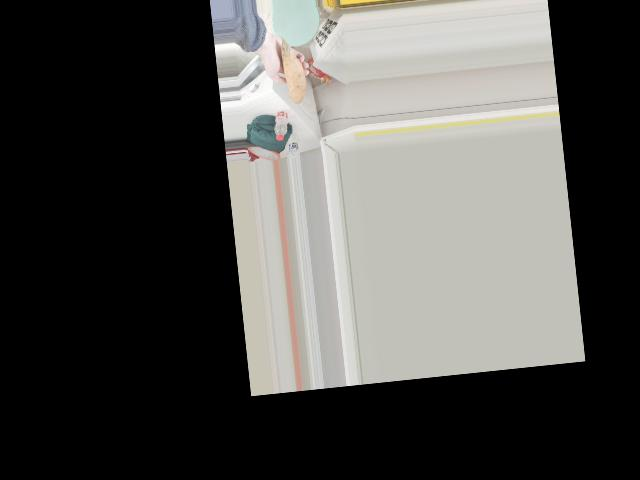sweet_potato: (278, 42, 307, 98)
